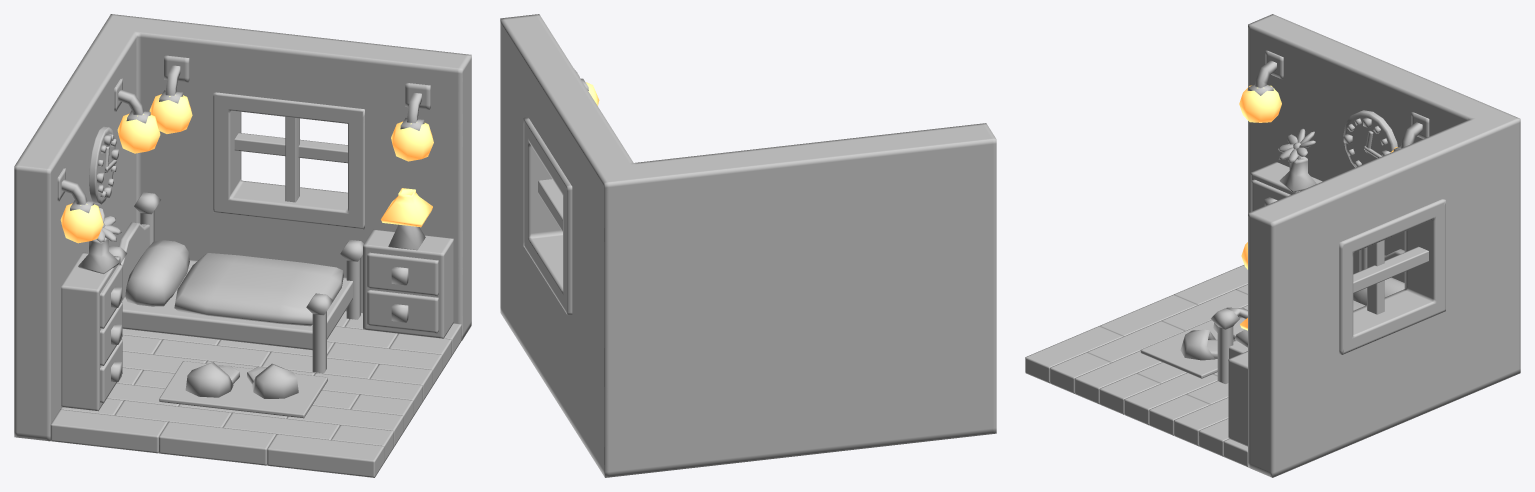
Rendered from Isometric Room v5058 p4866.fbx.
3 views of the same model, side by side, from view 1: azimuth 30°, elevation 25°; view 2: azimuth 150°, elevation 25°; view 3: azimuth 270°, elevation 25° (orthographic). The views are drawn at different scales.
Parts seen in each view (by area): view 1: Isometric Room; view 2: Isometric Room; view 3: Isometric Room.
Boxes of the visible parts, bbox=[...] form: Isometric Room: bbox=[14, 14, 471, 477]; Isometric Room: bbox=[500, 14, 996, 477]; Isometric Room: bbox=[1025, 14, 1520, 477].
Size of the model in its own units: 283 by 160 by 283.
